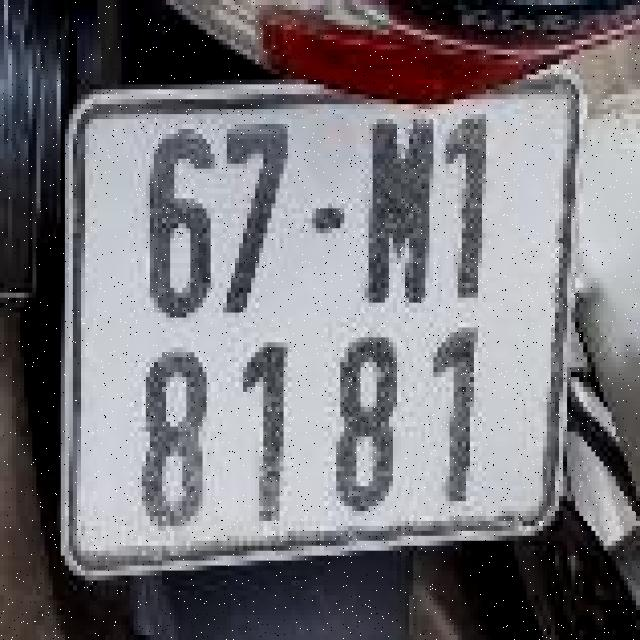1: (241, 332, 302, 536), (432, 320, 492, 509), (446, 112, 494, 300)
6: (138, 117, 218, 325)
7: (224, 117, 294, 315)
8: (132, 340, 220, 543), (328, 327, 409, 526)
M: (360, 92, 438, 320)
